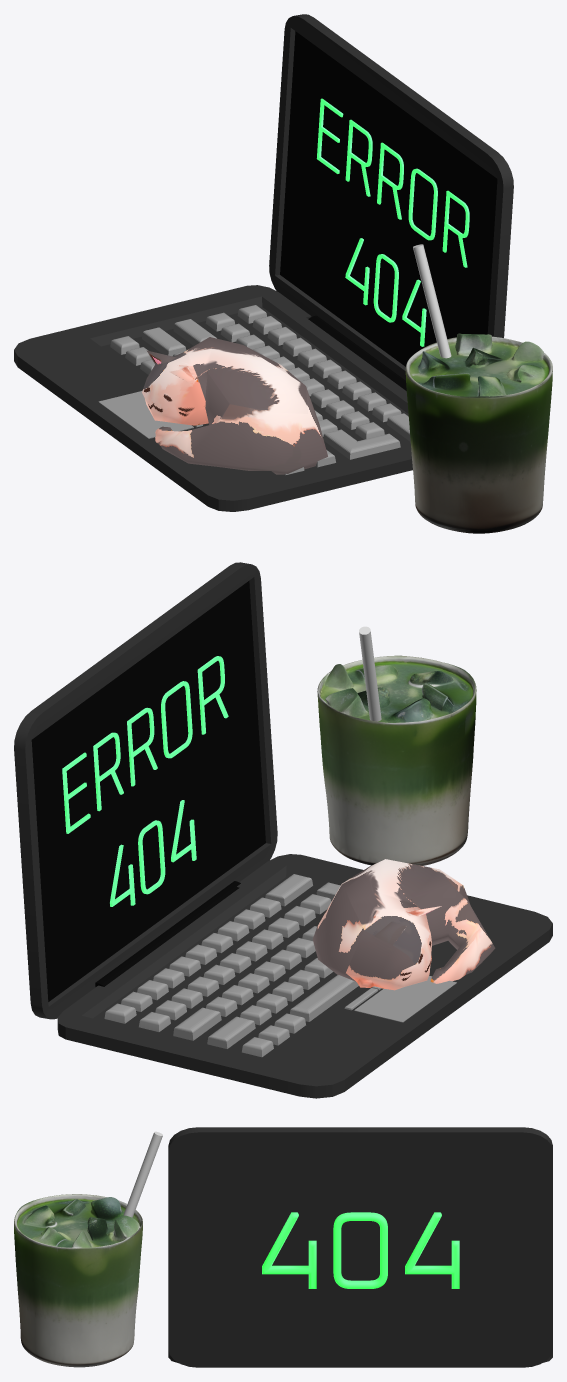
File: laptop3.glb
3 renders of one model, top to bottom at view 1: azimuth 30°, elevation 25°; view 2: azimuth 150°, elevation 25°; view 3: azimuth 270°, elevation 25°, orthographic. The views are drawn at different scales.
Parts seen in each view (by area): view 1: Empty, Cube.014, Cube.001, Cube.013, Cube.002, Text.001, Cube.011, Cube.010, Cylinder, Cube.012, Cube.006, Cube.007; view 2: Cube.014, Empty, Cube.001, Cube.013, Cube.002, Text.001, Cube.011, Cube.012, Cube.003, Cylinder, Cube.007, Cube.006 (+1 smaller); view 3: Cube.013, Empty, Text, Cylinder.
Part boxes in pixels (bbox=[...]): Empty: bbox=[142, 333, 552, 533]; Cube.014: bbox=[280, 31, 497, 366]; Cube.001: bbox=[14, 285, 412, 511]; Cube.013: bbox=[269, 14, 513, 380]; Cube.002: bbox=[110, 305, 401, 475]; Text.001: bbox=[316, 98, 469, 346]; Cube.011: bbox=[98, 391, 193, 438]; Cube.010: bbox=[323, 429, 400, 459]; Cylinder: bbox=[413, 244, 451, 358]; Cube.012: bbox=[308, 315, 406, 390]; Cube.006: bbox=[142, 327, 186, 356]; Cube.007: bbox=[173, 319, 216, 345]; Cube.014: bbox=[31, 581, 265, 1001]; Empty: bbox=[312, 655, 495, 990]; Cube.001: bbox=[57, 854, 552, 1098]; Cube.013: bbox=[14, 562, 277, 1019]; Cube.002: bbox=[104, 894, 333, 1057]; Text.001: bbox=[62, 656, 228, 906]; Cube.011: bbox=[354, 975, 456, 1022]; Cube.012: bbox=[95, 881, 240, 986]; Cube.003: bbox=[290, 975, 358, 1021]; Cylinder: bbox=[359, 626, 381, 721]; Cube.007: bbox=[173, 1007, 221, 1040]; Cube.006: bbox=[207, 1016, 255, 1048]; Cube.013: bbox=[168, 1127, 552, 1367]; Empty: bbox=[14, 1194, 142, 1367]; Text: bbox=[262, 1212, 459, 1288]; Cylinder: bbox=[123, 1131, 162, 1217].
Size of the model in its own units: 5.08 by 4.74 by 9.17.
8 materials, 2 textured.
